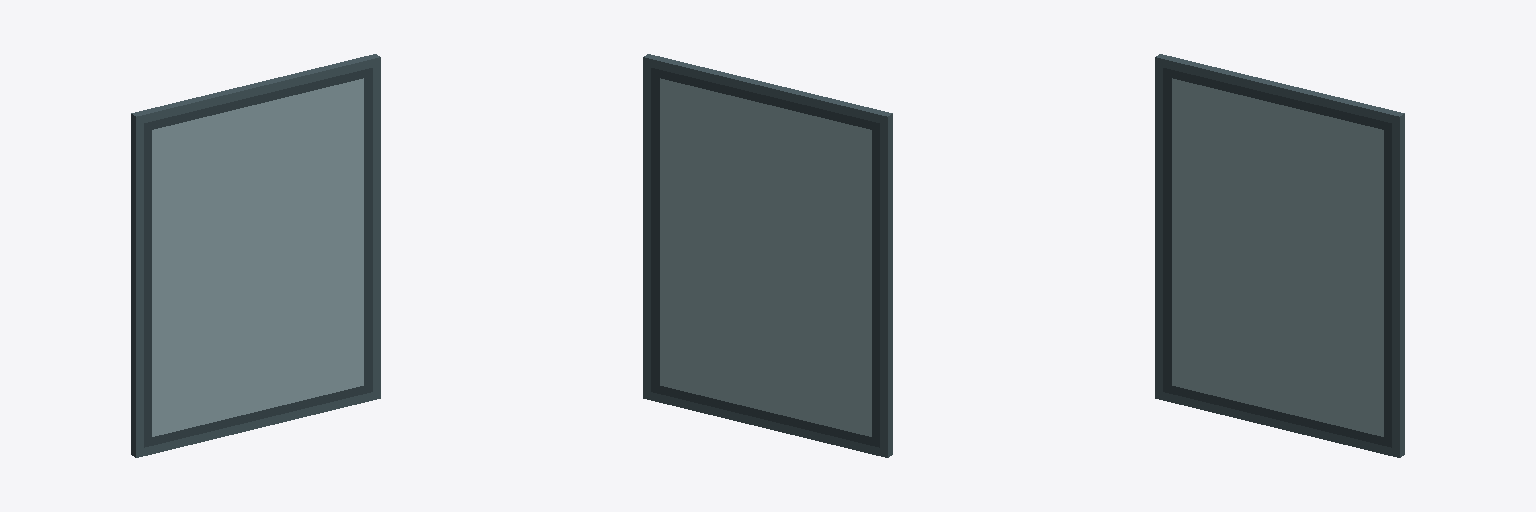
3 renders of one model, left to right at view 1: azimuth 30°, elevation 25°; view 2: azimuth 150°, elevation 25°; view 3: azimuth 330°, elevation 25°, orthographic.
Parts seen in each view (by area): view 1: object 1; view 2: object 1; view 3: object 1.
Part boxes in pixels (x1,y1,x2,y2): object 1: (131,54,380,457); object 1: (643,54,892,457); object 1: (1155,54,1404,457).
Bounding box in the file's own units: 3 × 4 × 0.1.
Materials: 1 (1 with a texture image).